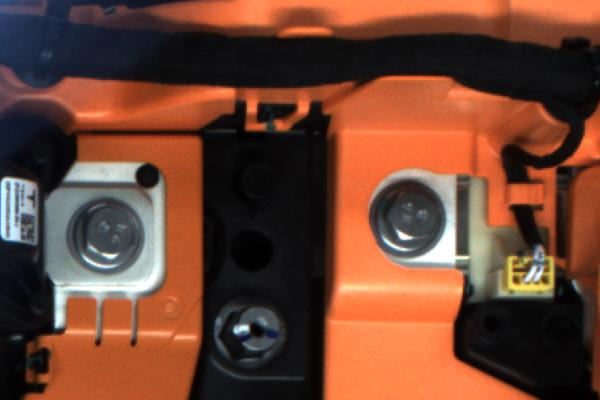nut_b: (57, 191, 156, 280), (359, 174, 452, 260)
